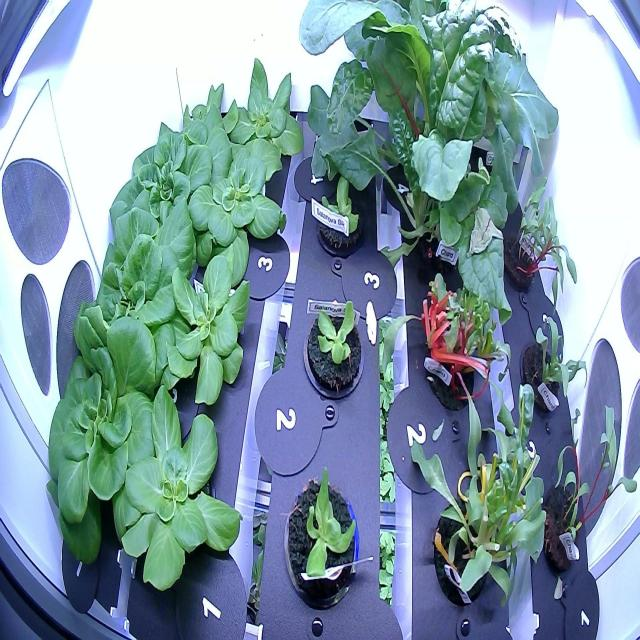young: (26, 313, 169, 572), (107, 380, 246, 596), (66, 193, 204, 398), (100, 117, 222, 290), (152, 242, 262, 414), (173, 134, 294, 284), (276, 455, 366, 617), (219, 46, 311, 185), (300, 286, 370, 411), (164, 75, 244, 174), (311, 166, 368, 274)
